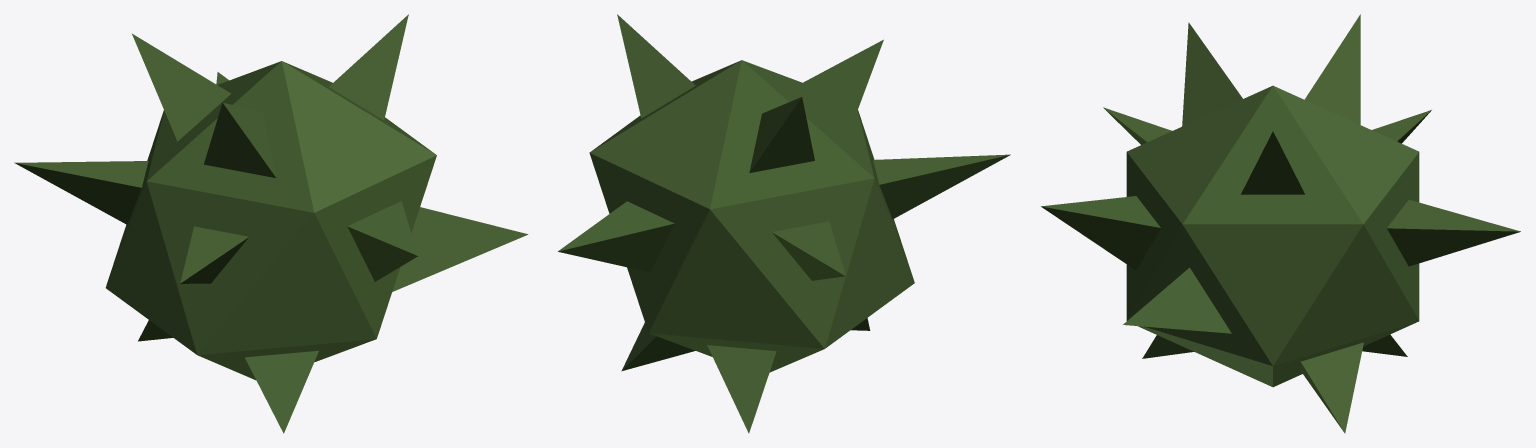
The model's file is HorseChestnut1.fbx.
3 views of the same model, side by side, from view 1: azimuth 30°, elevation 25°; view 2: azimuth 150°, elevation 25°; view 3: azimuth 270°, elevation 25° (orthographic).
Parts seen in each view (by area): view 1: HorseChesnut1; view 2: HorseChesnut1; view 3: HorseChesnut1.
Part boxes in pixels (x1,y1,x2,y2): HorseChesnut1: [14, 14, 528, 433]; HorseChesnut1: [558, 14, 1010, 433]; HorseChesnut1: [1041, 14, 1520, 433].
Bounding box in the file's own units: 0.3114 × 0.2795 × 0.3664.
